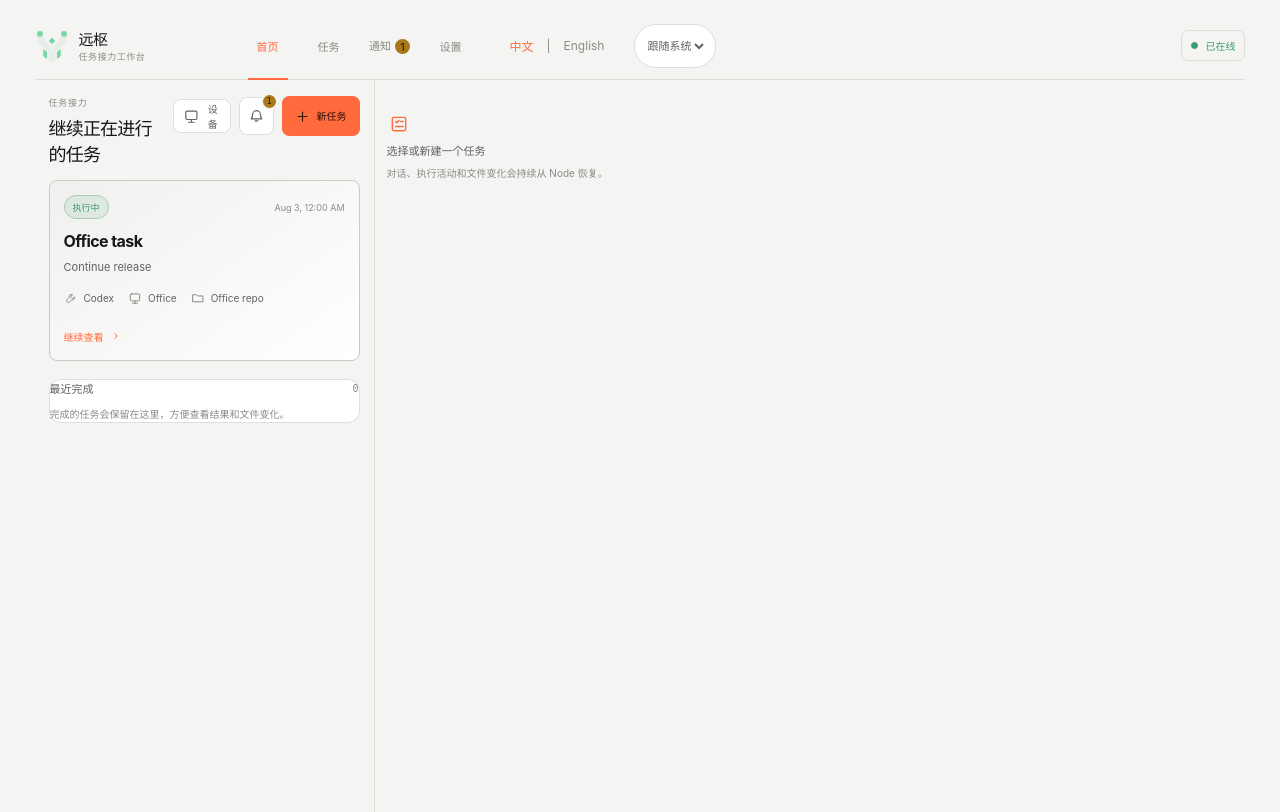
it: personal workbench › starts with task-first groups and opens a Thread without a device drill-down
Expected: the picture is shown, 34,28 -> 68,62
Expected: the heading "继续正在进行的任务" is shown, 48,114 -> 154,166
Click the button with aria-label "继续任务 Office task".
click(86, 207)  # box 48,180 -> 360,361
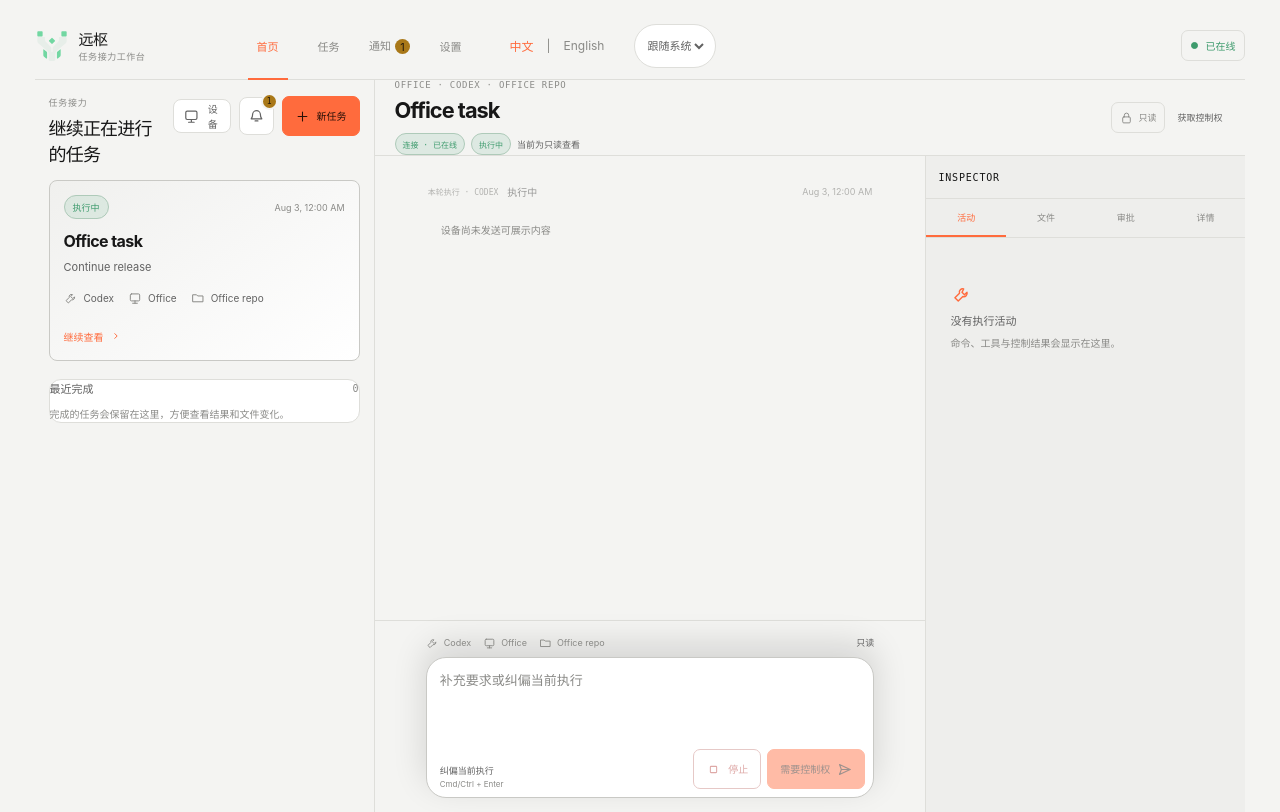
Expected: the heading "Office task" is shown, 394,97 -> 499,123
Expected: the element named "任务详情" shows "Office · Codex · Office repo", 394,80 -> 566,90
Expected: the element named "任务状态与控制权" is shown, 394,133 -> 580,155
